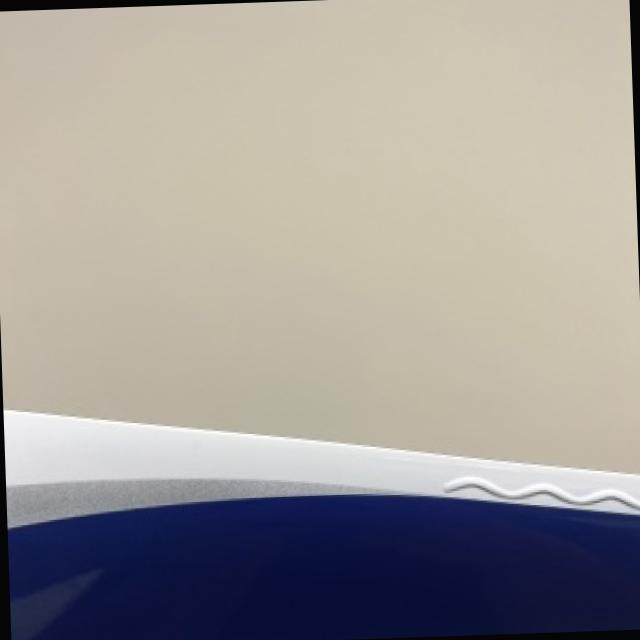healthy: (3, 408, 640, 640)
